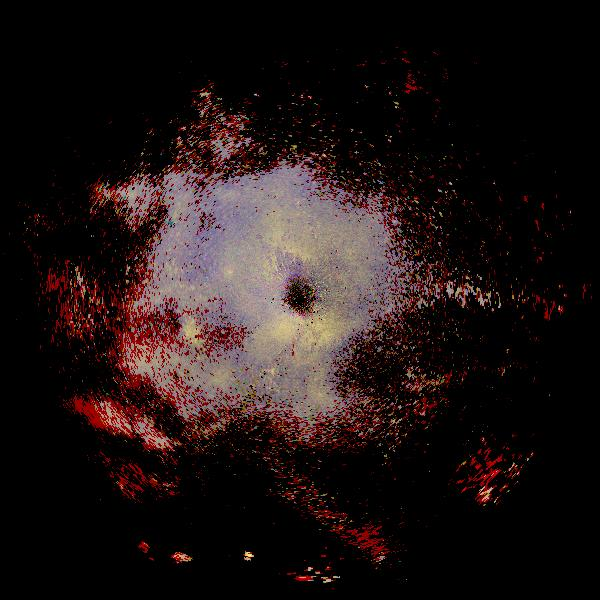roost: (102, 296, 240, 434)
